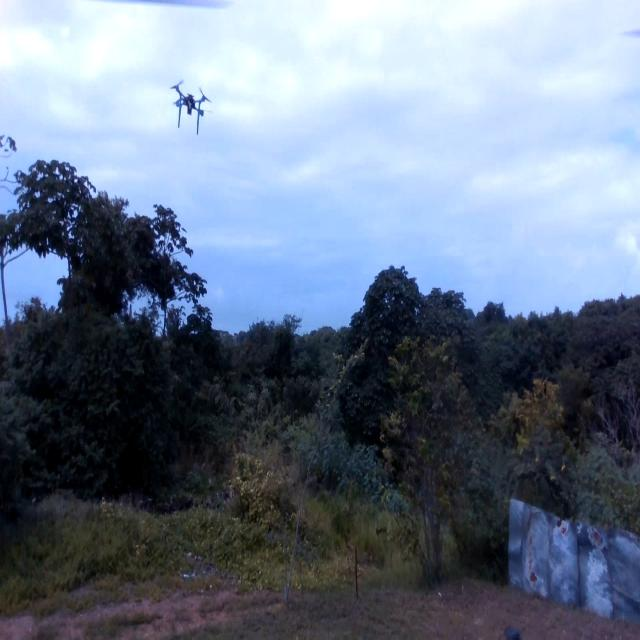-uav-: (166, 67, 214, 149)
